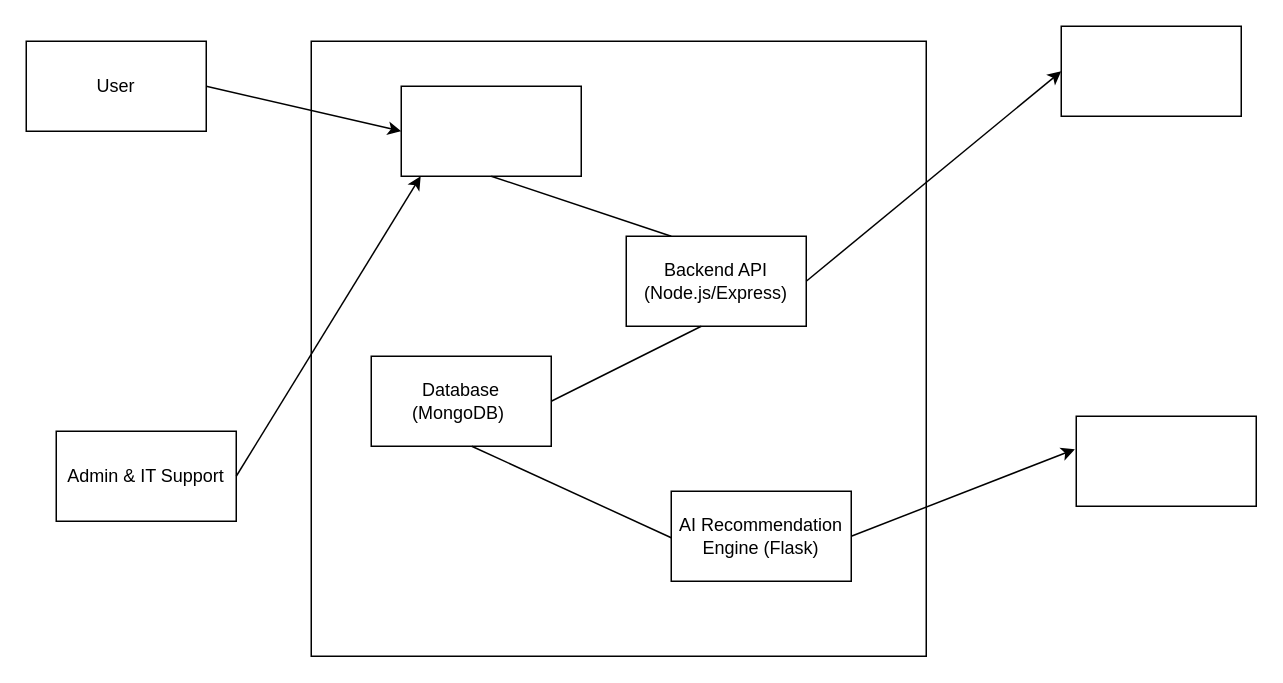
Some shapes in this 1283 by 683 pixel diagram are drawn without their labels. The centre of each missing label's shape, as x and y in pixels:
AI Model: point (1165, 460)
Weather API: point (1150, 70)
Web App (React.js): point (490, 130)
